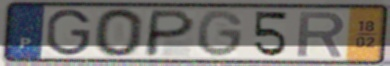5: (252, 10, 289, 58)
G: (196, 8, 246, 59), (45, 8, 93, 58)
O: (93, 7, 146, 59)
P: (141, 8, 198, 59)
R: (295, 10, 348, 58)
